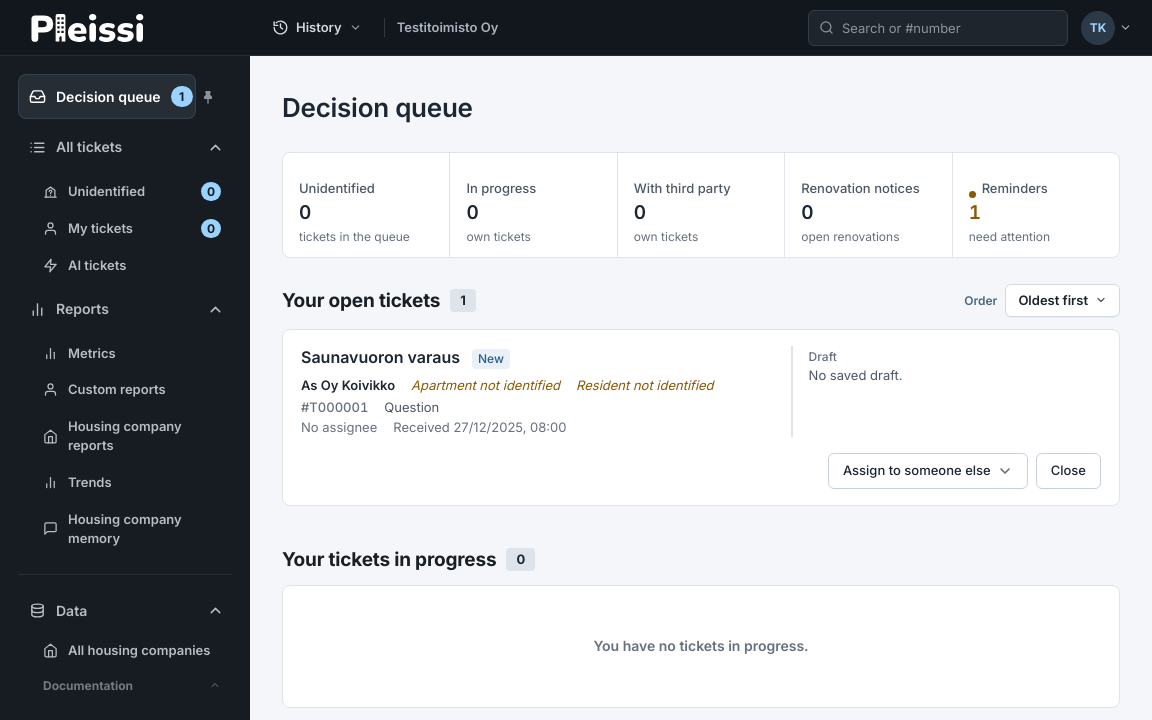
Test: sovellus › näyttää käyttöliittymän englanniksi, kun kieli on valittu
Check: the heading "Saunavuoron varaus" is shown, box [301,346,460,368]
Click the button with aria-label "Profile" at (1108, 28), box [1078,8,1138,48]
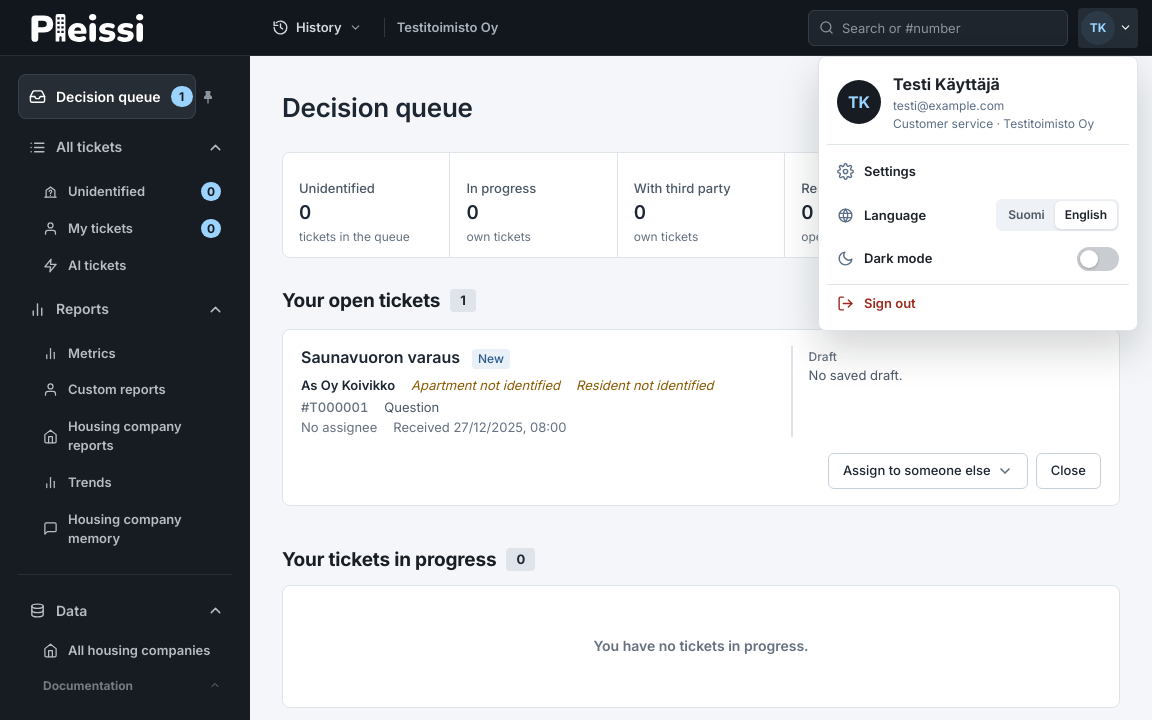
Check: the button "Decision queue 1" is shown, box [18,74,196,119]
Check: the menu item "Sign out" is shown, box [827,284,1129,322]
